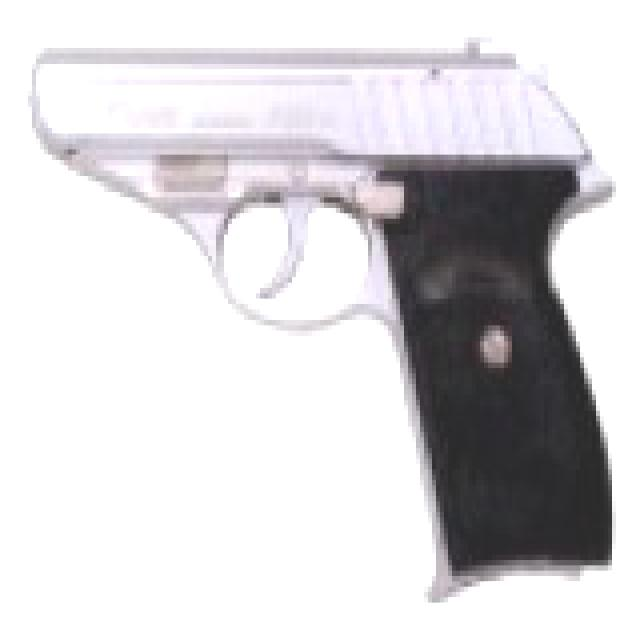handgun: (28, 31, 612, 614)
